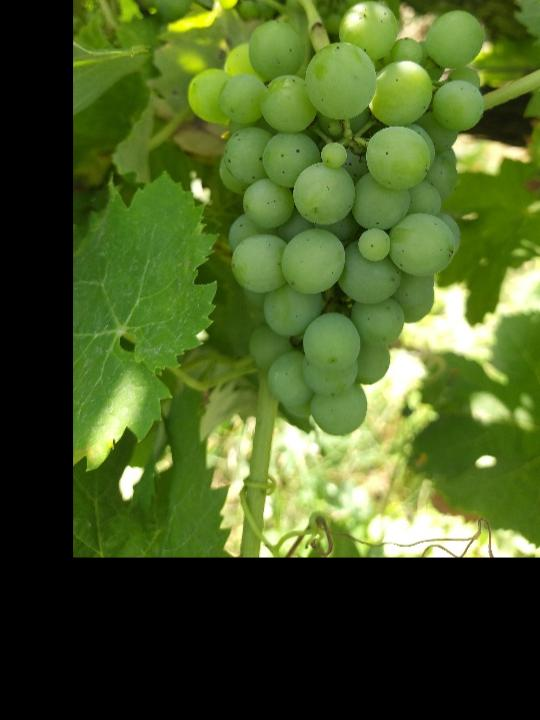grape: (188, 0, 484, 439)
